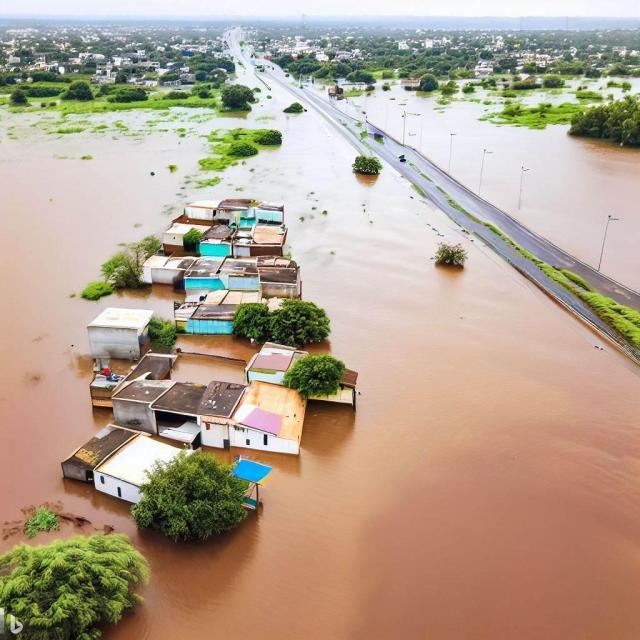flood: (0, 78, 640, 640), (0, 82, 640, 640), (106, 90, 640, 640), (0, 109, 218, 530), (349, 85, 640, 291), (173, 335, 261, 383), (512, 77, 640, 105), (233, 67, 264, 89)
house: (62, 423, 182, 508), (198, 376, 306, 454), (144, 251, 304, 301), (249, 340, 360, 412), (113, 371, 203, 443), (160, 218, 290, 257), (86, 306, 153, 360), (182, 194, 287, 227), (187, 303, 235, 332)
